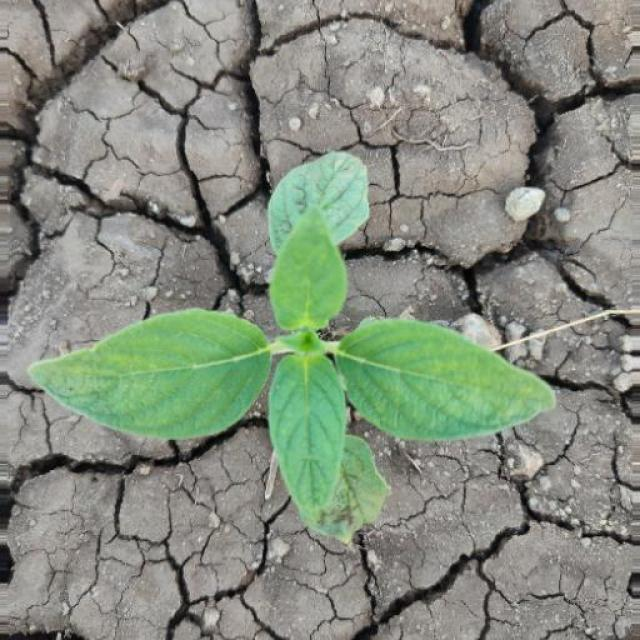crop: (20, 206, 561, 532)
